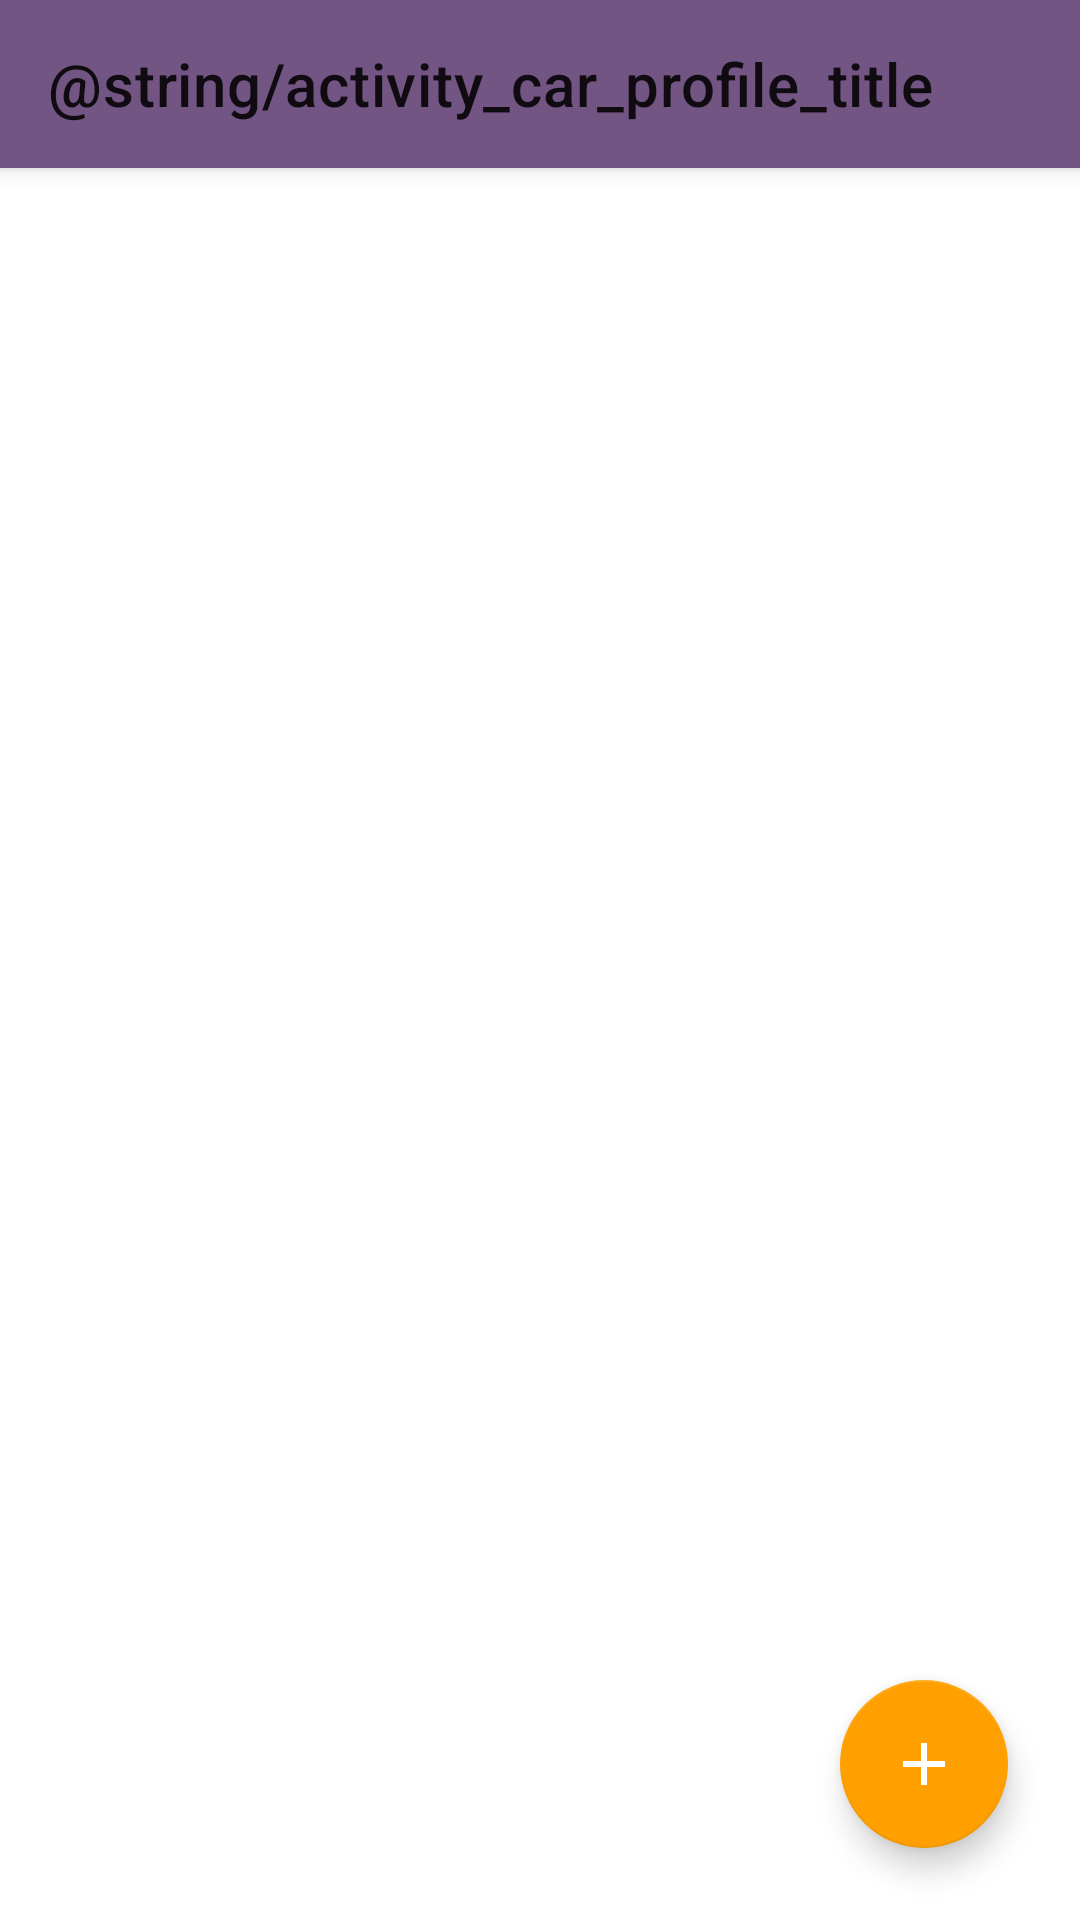

Where icons sit on this 1080w x 1920h app screen, as (x1, y1, x2, y2):
plus: (840, 1680, 1008, 1848)
